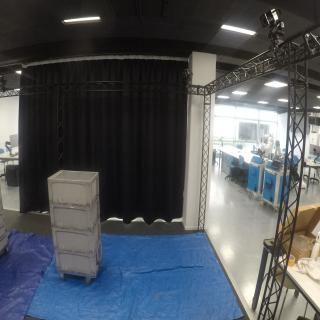Box4G: (47, 168, 101, 209), (47, 198, 106, 233), (50, 220, 104, 257), (54, 243, 106, 279)
